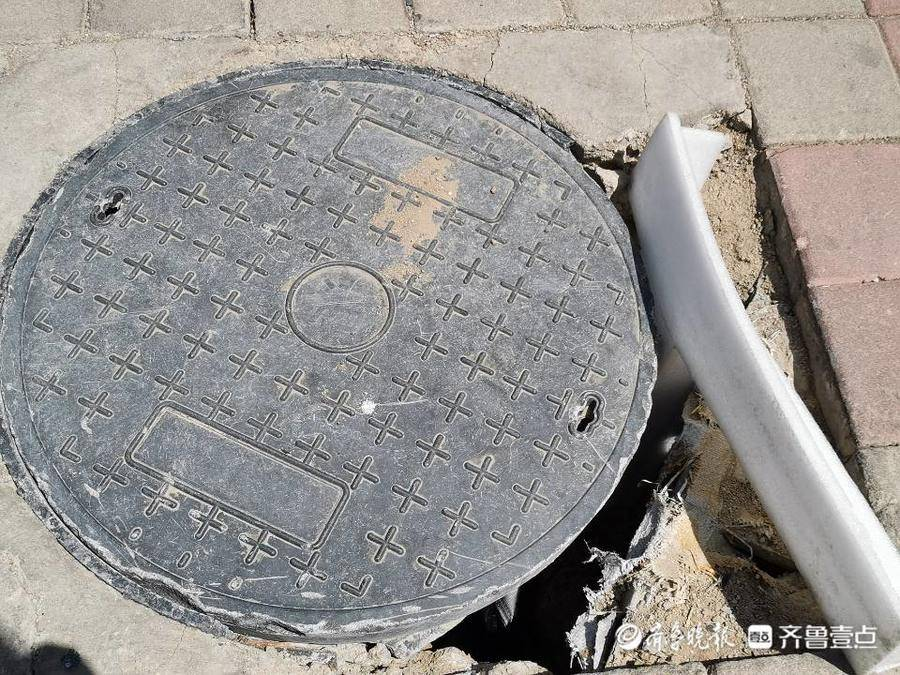circle: (15, 63, 830, 656)
